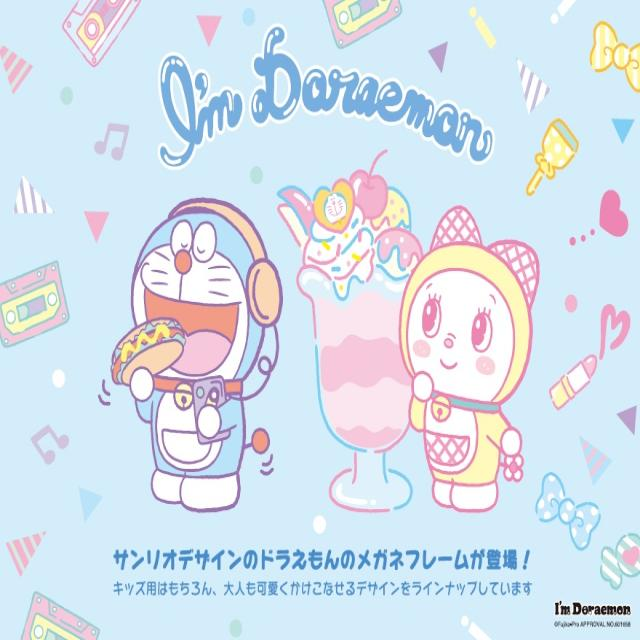doraemon: (105, 188, 291, 428)
